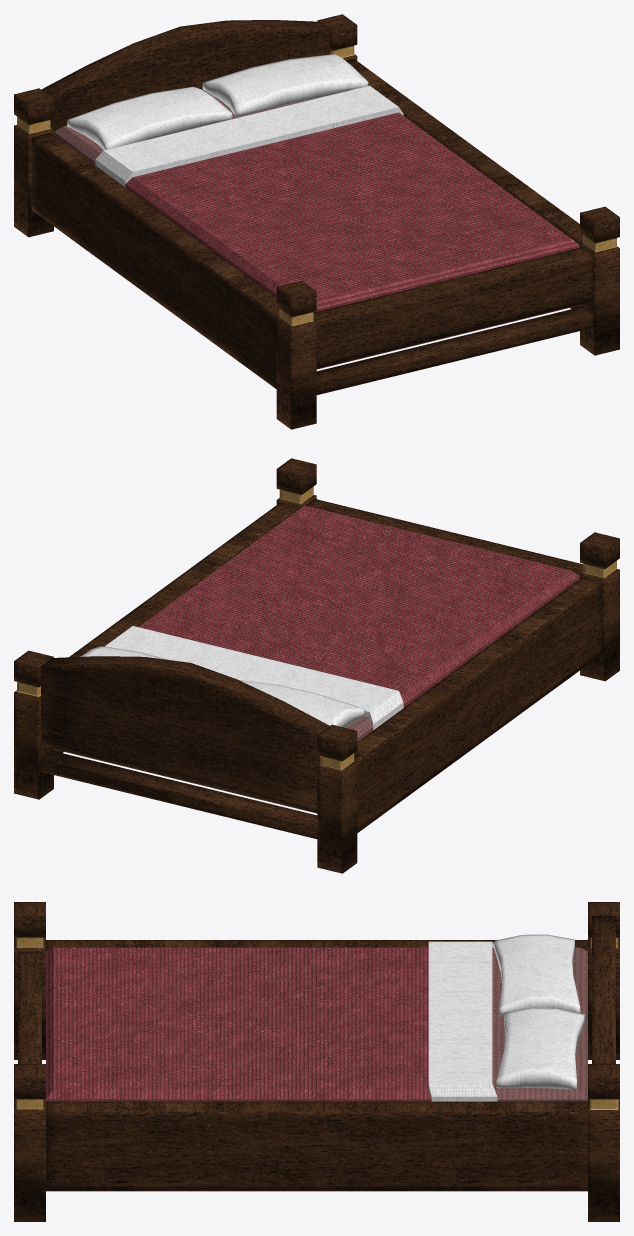
The model's file is bed.fbx.
The picture shows the model from 3 angles, top to bottom: view 1: azimuth 30°, elevation 25°; view 2: azimuth 150°, elevation 25°; view 3: azimuth 270°, elevation 25°; orthographic projection. The views are drawn at different scales.
Visible parts, largest first — view 1: Bed.Base, Ext.002, Ext.003, Ext.004, Ext.006, Pillow.002, Pillow.001, Leg.001, Leg.002, Ext.001, Leg.003, Leg.004; view 2: Bed.Base, Ext.004, Ext.002, Ext.007, Leg.003, Leg.004, Ext.001, Leg.001, Ext.003, Pillow.001, Leg.002; view 3: Bed.Base, Ext.001, Pillow.002, Pillow.001, Leg.002, Leg.004, Ext.004, Ext.002, Ext.003, Leg.001, Leg.003.
Part boxes in pixels (x1,y1,x2,y2): Bed.Base: (54, 85, 579, 369); Ext.002: (31, 133, 279, 388); Ext.003: (313, 247, 592, 368); Ext.004: (41, 20, 329, 131); Ext.006: (316, 306, 592, 394); Pillow.002: (202, 54, 368, 116); Pillow.001: (67, 86, 232, 150); Leg.001: (276, 280, 316, 429); Leg.002: (580, 206, 619, 355); Ext.001: (346, 59, 583, 308); Leg.003: (14, 88, 53, 237); Leg.004: (317, 14, 357, 60); Bed.Base: (54, 505, 579, 813); Ext.004: (41, 656, 329, 812); Ext.002: (354, 577, 602, 832); Ext.007: (41, 750, 317, 838); Leg.003: (317, 724, 357, 873); Leg.004: (14, 650, 53, 799); Ext.001: (54, 503, 298, 752); Leg.001: (580, 532, 619, 681); Ext.003: (305, 499, 583, 575); Pillow.001: (239, 680, 365, 727); Leg.002: (276, 458, 316, 509); Bed.Base: (46, 941, 587, 1101); Ext.001: (46, 1101, 587, 1191); Pillow.002: (496, 1007, 584, 1089); Pillow.001: (494, 934, 580, 1016); Leg.002: (14, 1064, 45, 1221); Leg.004: (588, 1064, 619, 1221); Ext.004: (592, 915, 615, 1063); Ext.002: (46, 940, 587, 950); Ext.003: (18, 951, 41, 1063); Leg.001: (14, 902, 45, 1059); Leg.003: (588, 902, 619, 1059).
Bounding box in the file's own units: 130 × 61 × 190.
